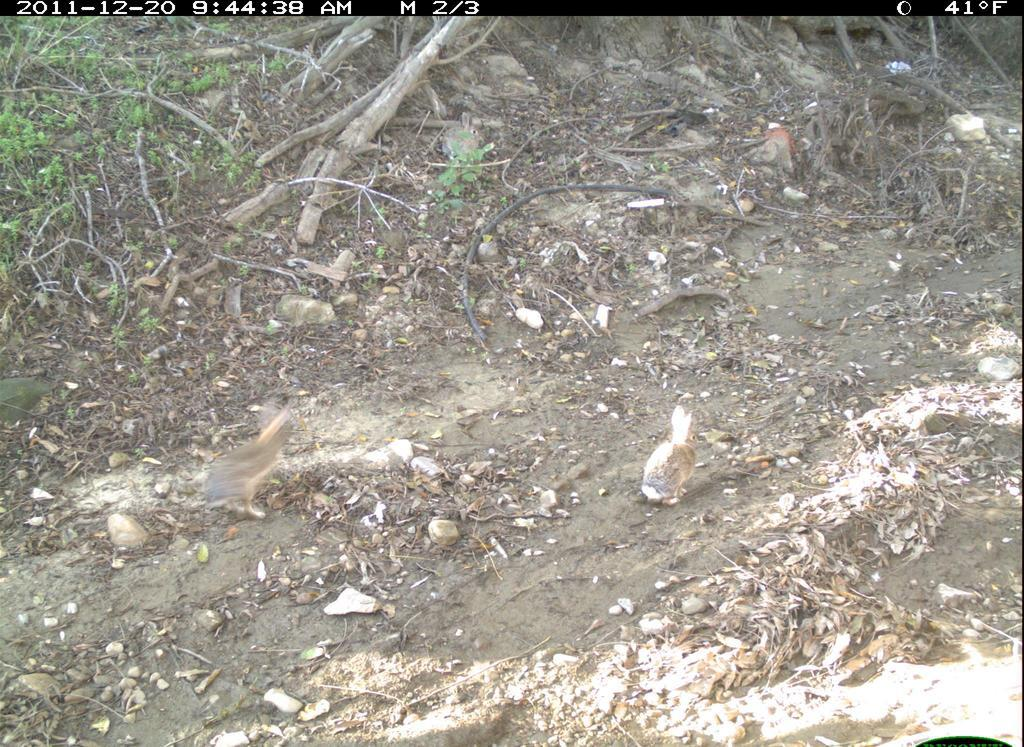rabbit: (630, 397, 710, 518)
